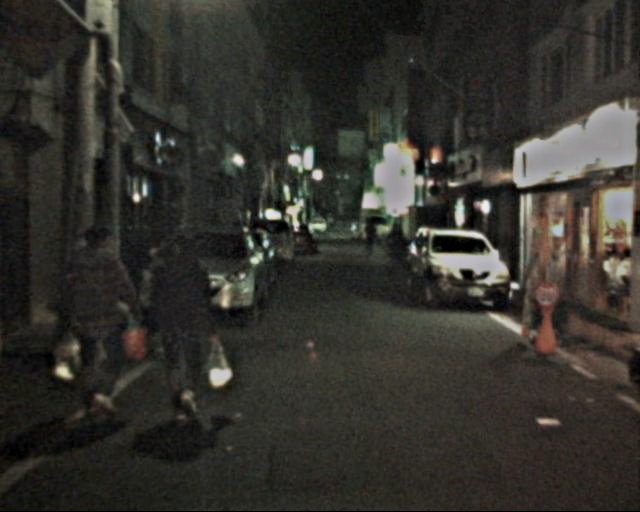person: (58, 221, 143, 418), (145, 228, 225, 426), (363, 218, 381, 259)
